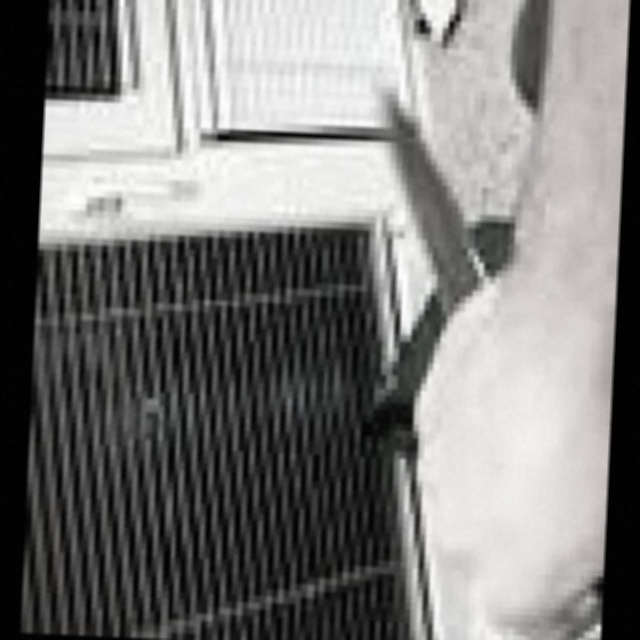Sharp-Object: (357, 93, 619, 640)
